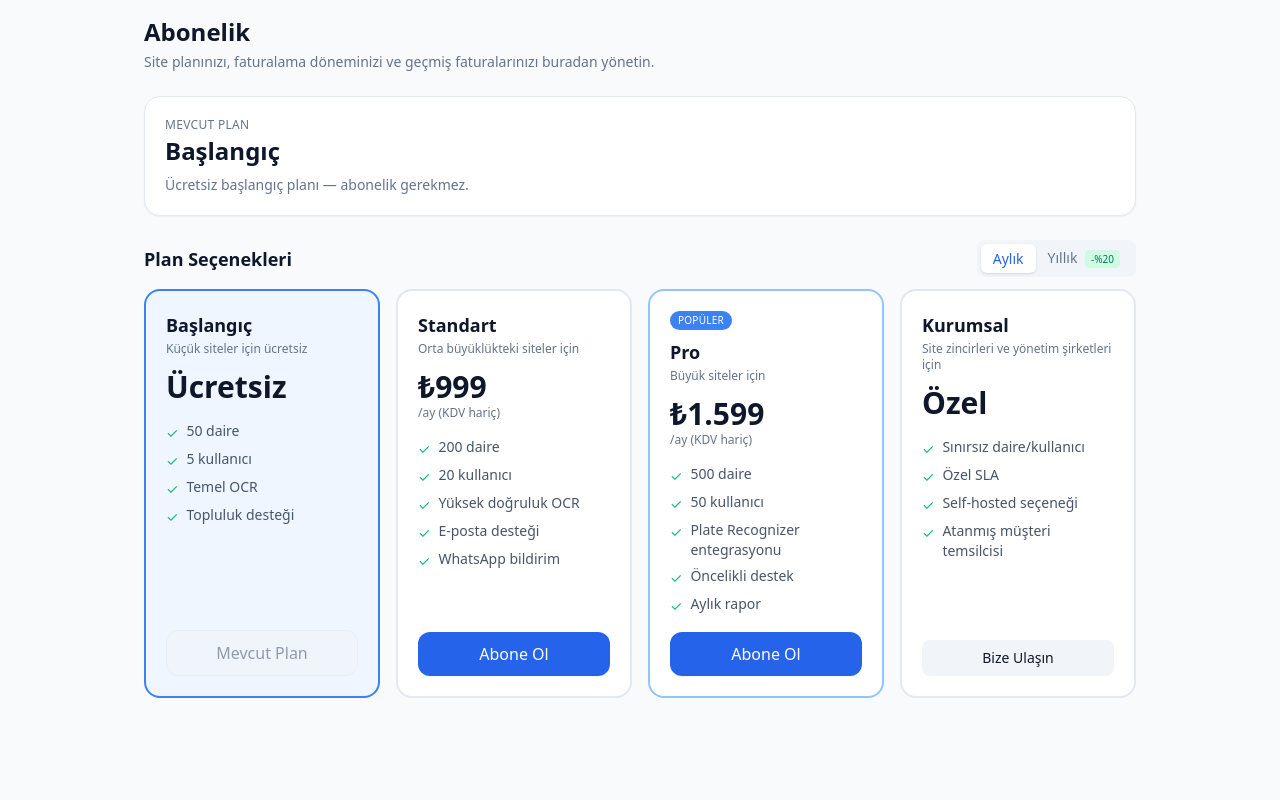
Test: Abonelik › cycle toggle aylık ↔ yıllık + indirim badge
Expected: the text "Standart" is shown, top-left (418, 313), bottom-right (497, 337)
Expected: the text "-%20" is shown, top-left (1085, 250), bottom-right (1120, 268)
Click the button "Yıllık -%20" at (1084, 258), box top-left (1036, 244), bottom-right (1132, 273)
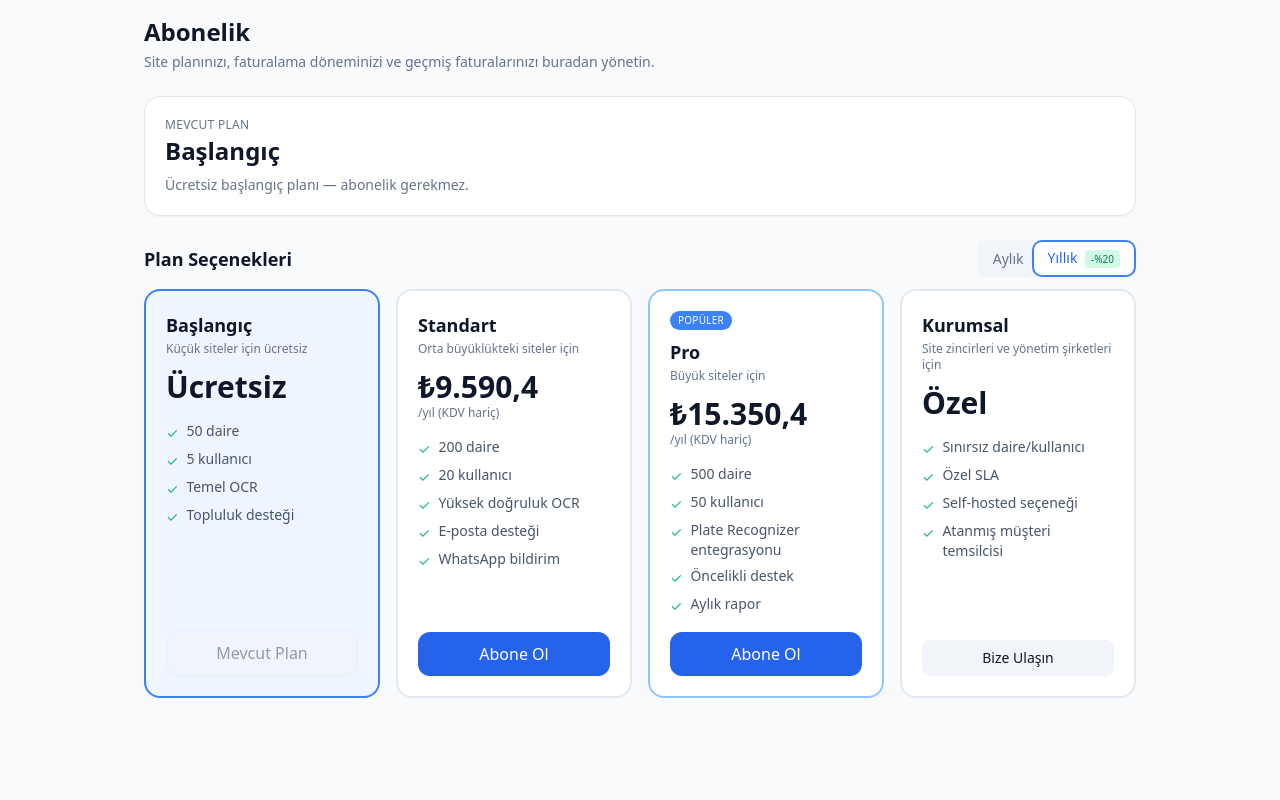
Result: the text "/yıl (KDV hariç)" below "₺9.590,4" is shown at top-left (418, 404), bottom-right (500, 421)
